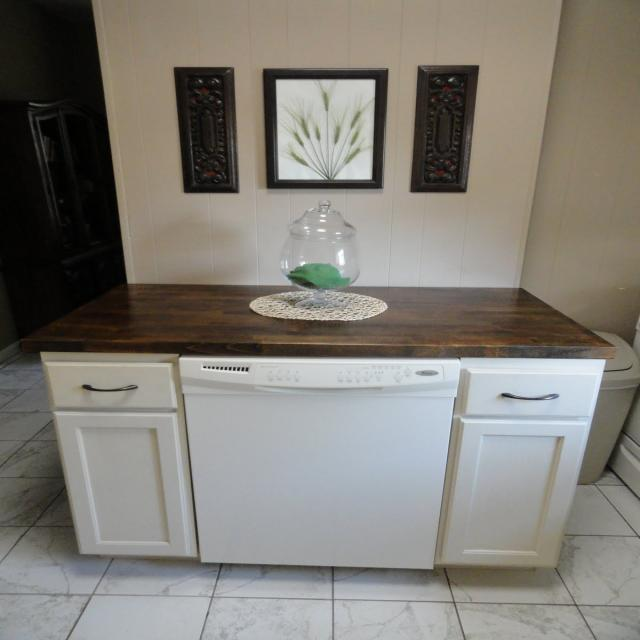dishwasher: (177, 351, 470, 579)
